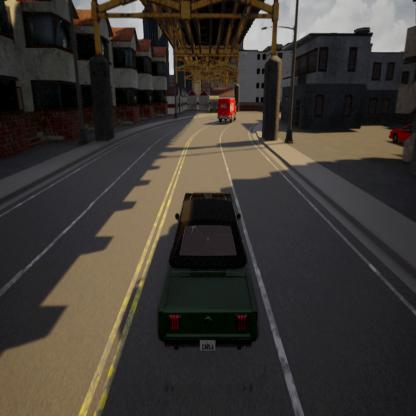Cars: (153, 151, 275, 376), (212, 80, 245, 145)
